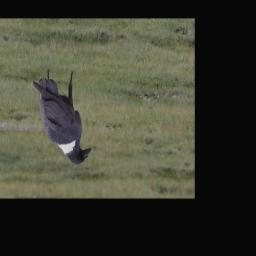Crow: (32, 70, 91, 166)
